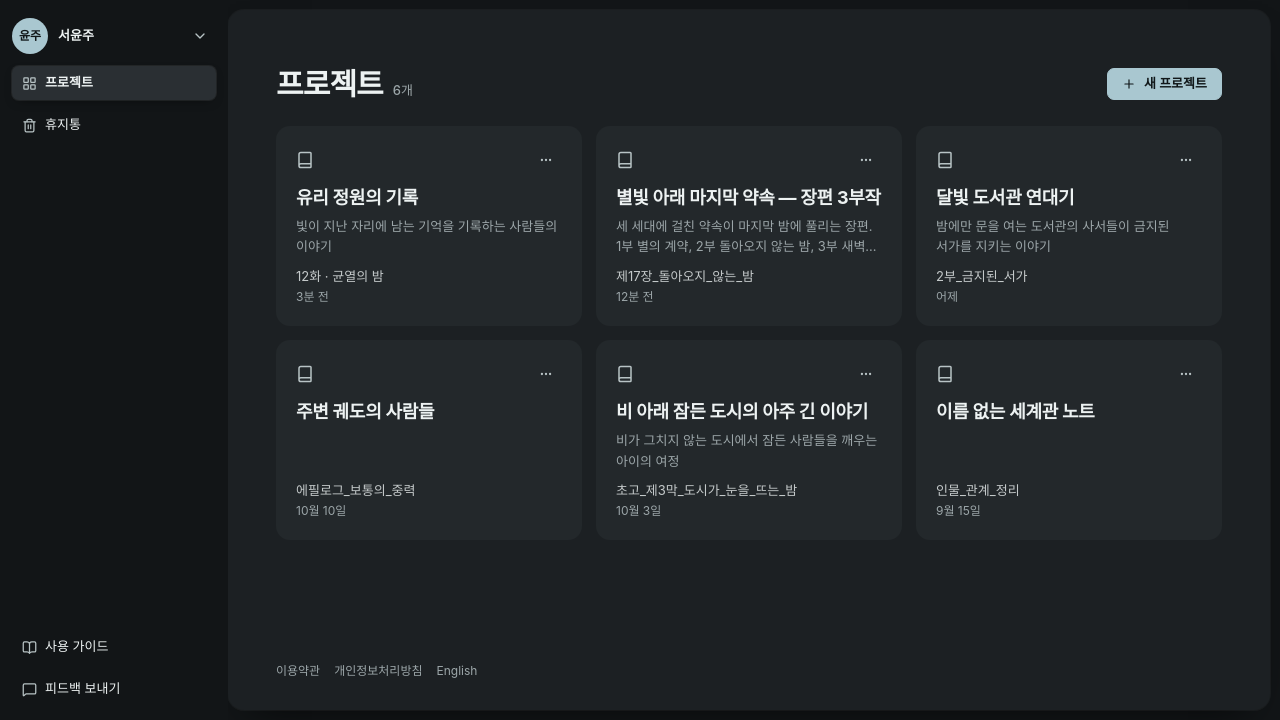
Test: ProjectListPage › rejects a duplicate title without closing the dialog
Click the button "새 프로젝트" at (1164, 84), box [1107,68,1222,100]
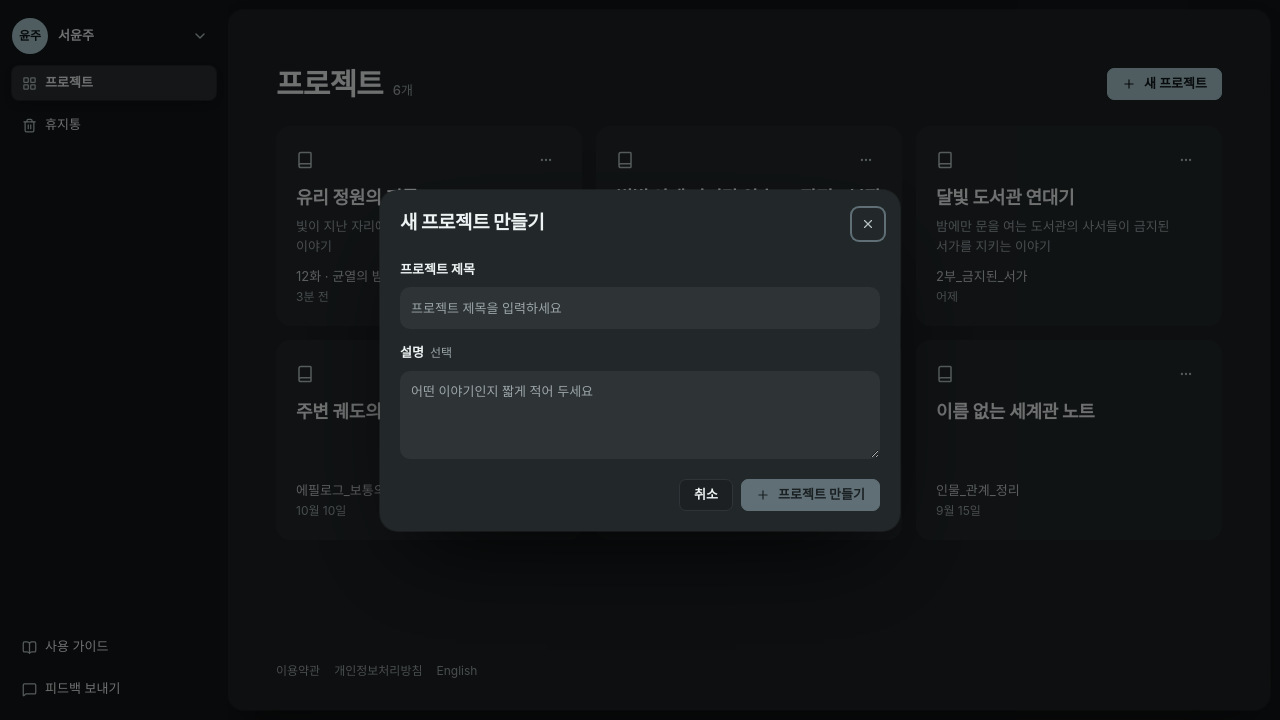
Type "유리 정원의 기록" into the field labelled "프로젝트 제목" at (640, 308), box [400,287,880,329]
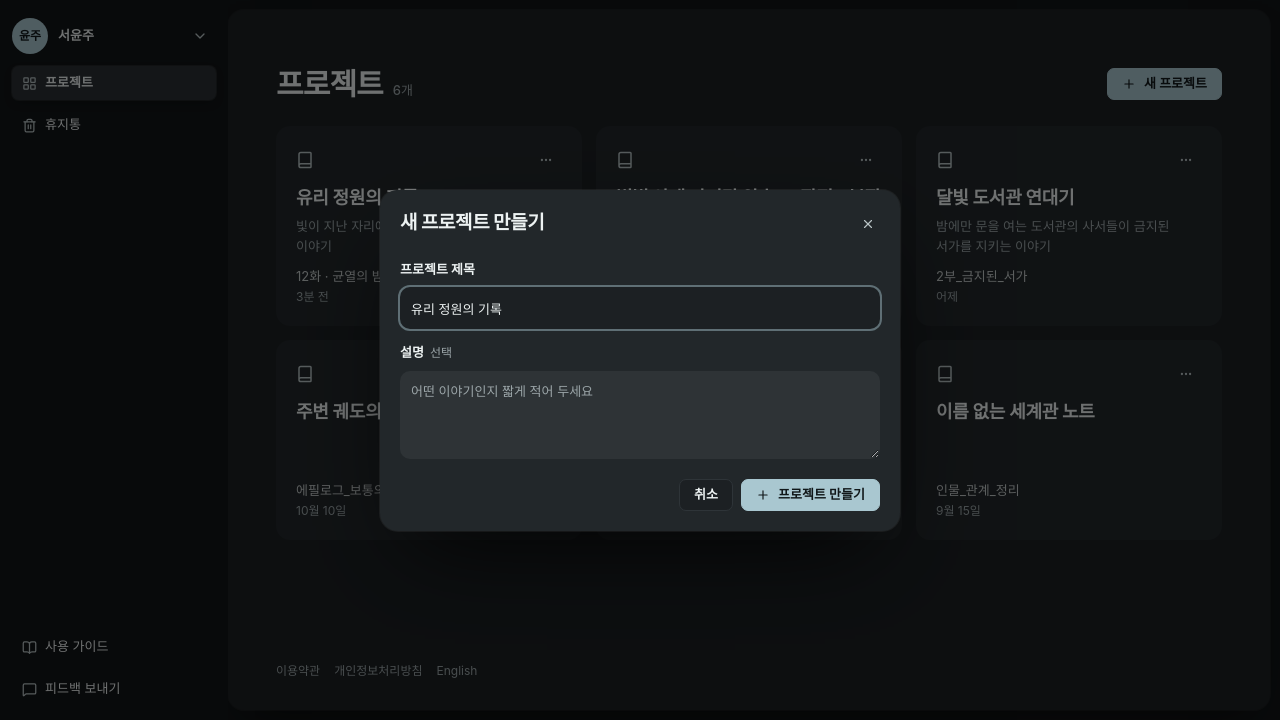
Click the button "프로젝트 만들기" at (810, 494), box [741,478,880,510]
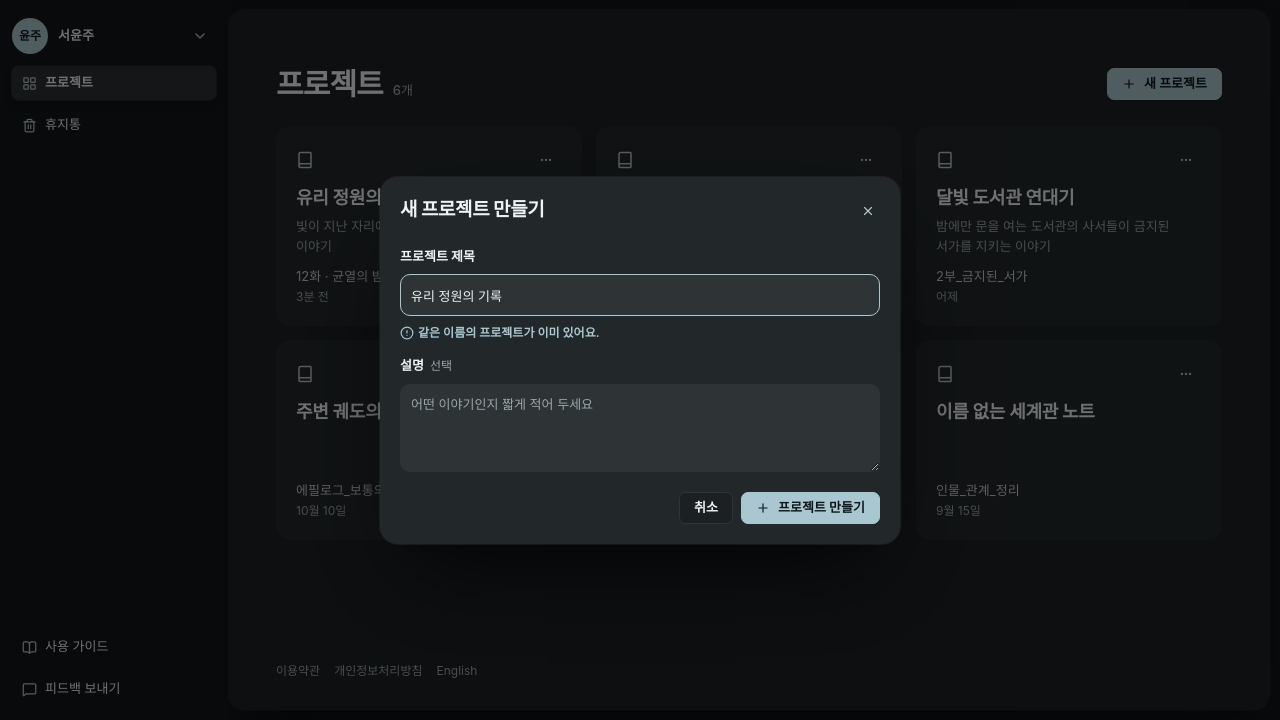
Check: the text "같은 이름의 프로젝트가 이미 있어요." is shown, box [400,325,600,340]
